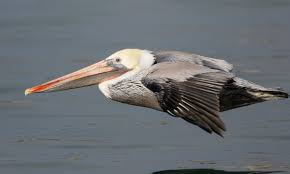pelican: (24, 47, 290, 138)
